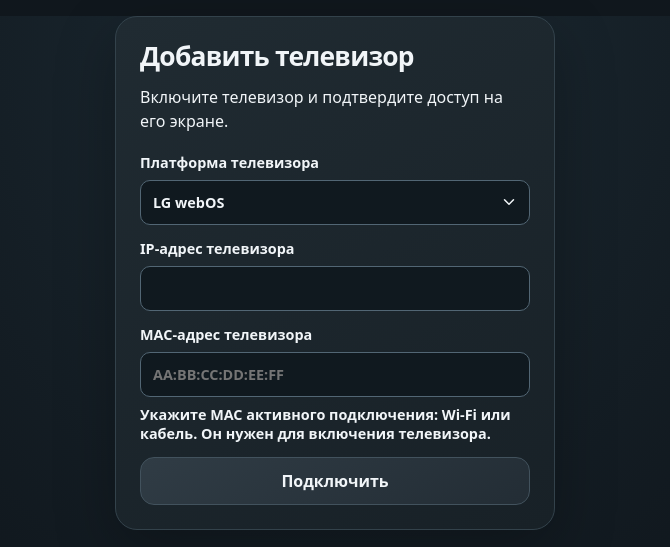
Test: Samsung addition does not show the LG MAC field
Step 1. Select "Samsung Tizen" in the dropdown → (335, 202), box [140,180,530,225]
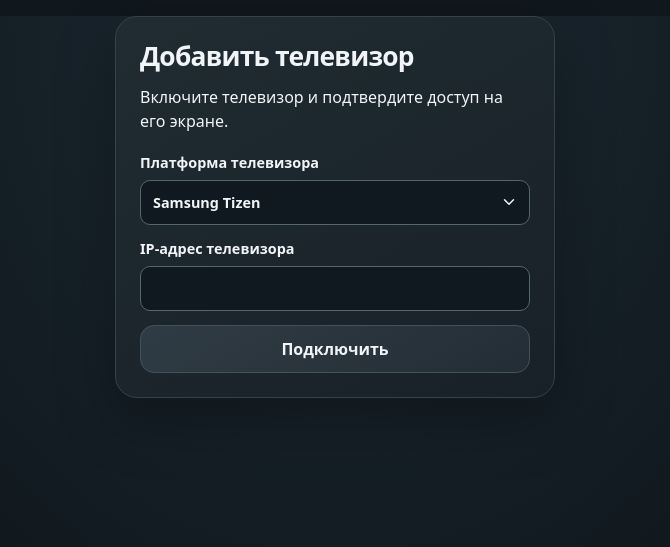
expect the label labelled "MAC-адрес телевизора" is gone: met
